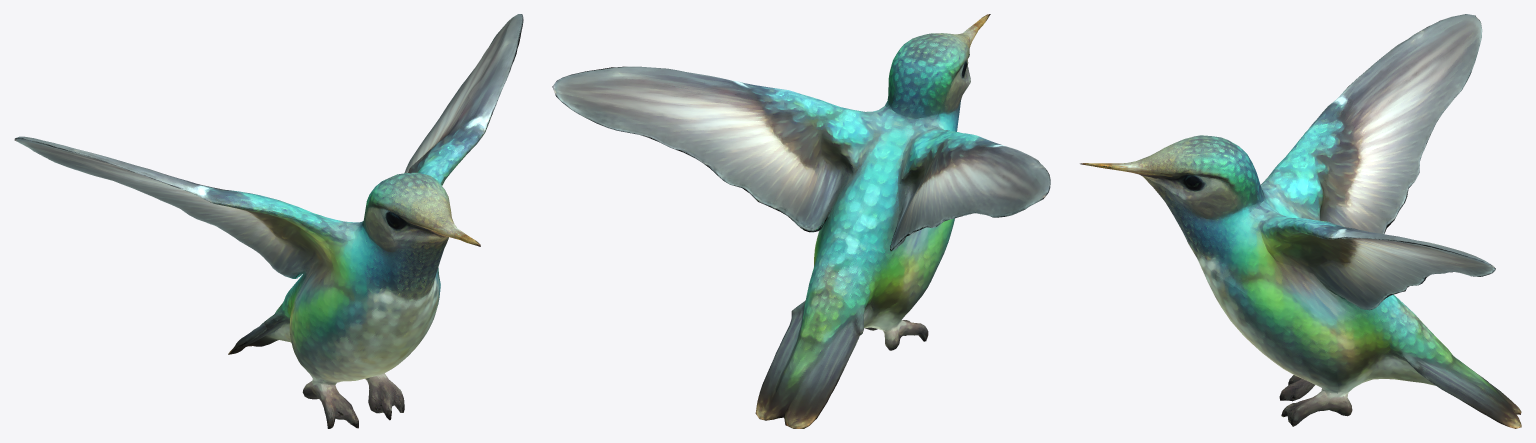
The model's file is hummingbird-3d.glb.
3 renders of one model, left to right at view 1: azimuth 30°, elevation 25°; view 2: azimuth 150°, elevation 25°; view 3: azimuth 270°, elevation 25°, orthographic. The views are drawn at different scales.
Visible parts, largest first — view 1: world; view 2: world; view 3: world.
Part boxes in pixels (x1=…): world: x1=14, y1=14, x2=523, y2=428; world: x1=552, y1=14, x2=1050, y2=428; world: x1=1080, y1=14, x2=1521, y2=428.
Bounding box in the file's own units: 0.9952 × 0.5435 × 0.7647.
1 material, 1 textured.
